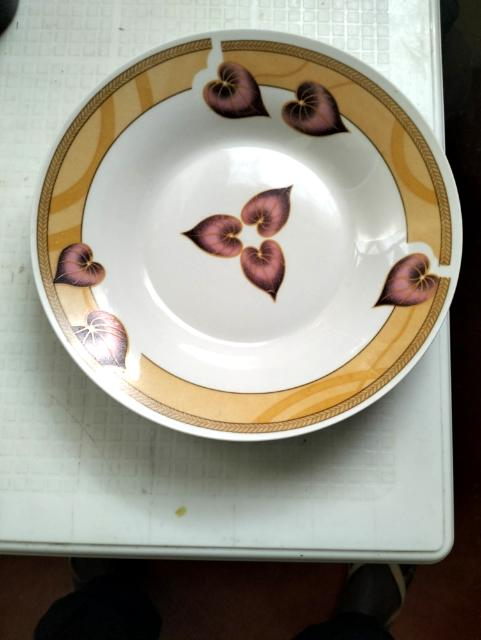Plate: (32, 30, 463, 440)
